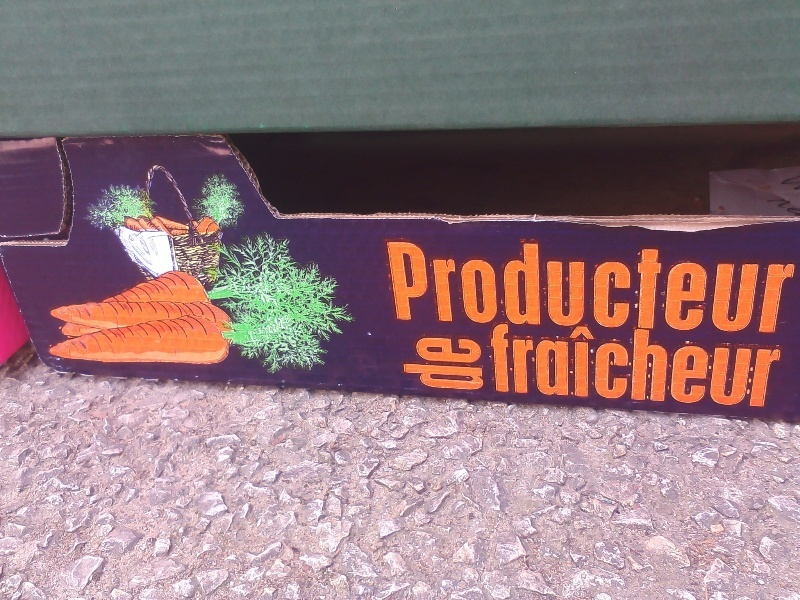text: (385, 237, 400, 338), (401, 237, 416, 338), (417, 237, 432, 338), (433, 237, 448, 338), (449, 237, 464, 338), (465, 237, 480, 338), (481, 237, 496, 338), (497, 237, 512, 338), (513, 237, 528, 338), (529, 237, 544, 338), (545, 237, 560, 338), (561, 237, 576, 338), (577, 237, 592, 338), (593, 237, 608, 338), (609, 237, 624, 338), (625, 237, 640, 338), (641, 237, 656, 338), (657, 237, 672, 338), (673, 237, 688, 338), (689, 237, 704, 338), (705, 237, 720, 338), (721, 237, 736, 338), (737, 237, 752, 338), (753, 237, 768, 338), (769, 237, 784, 338), (785, 237, 800, 338), (497, 319, 512, 411), (513, 319, 528, 411), (529, 319, 544, 411), (545, 319, 560, 411), (561, 319, 576, 411), (577, 319, 592, 411), (593, 319, 608, 411), (609, 319, 624, 411), (625, 319, 640, 411), (641, 319, 656, 411), (657, 319, 672, 411), (673, 319, 688, 411), (689, 319, 704, 411), (705, 319, 720, 411), (721, 319, 736, 411), (737, 319, 752, 411), (753, 319, 768, 411), (769, 319, 784, 411), (486, 319, 496, 411), (769, 154, 784, 215), (785, 154, 800, 215), (417, 336, 432, 391), (433, 336, 448, 391), (449, 336, 464, 391), (465, 336, 480, 391), (402, 336, 416, 391), (762, 154, 768, 215), (481, 336, 485, 391), (785, 319, 786, 411)
